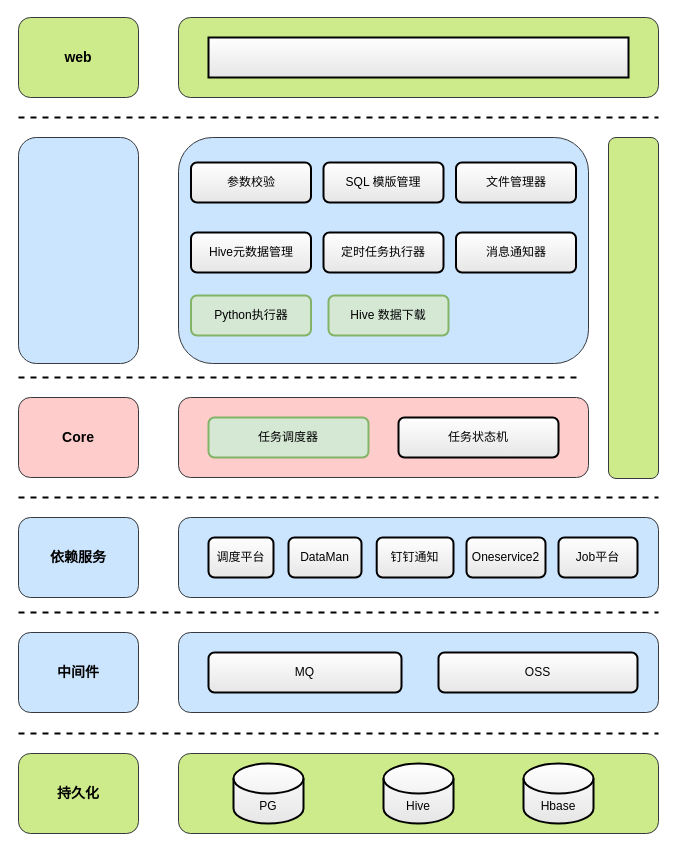
Image size: 677x851. Some labels were removed from this diagram. The shapes that lost their labels are listed below. From the top down, each one's box as (x1, y1, x2, y2) in pixels, then its label:
(207, 36, 629, 78): TaskController
(18, 136, 138, 364): Service
(608, 136, 658, 478): 日 志
